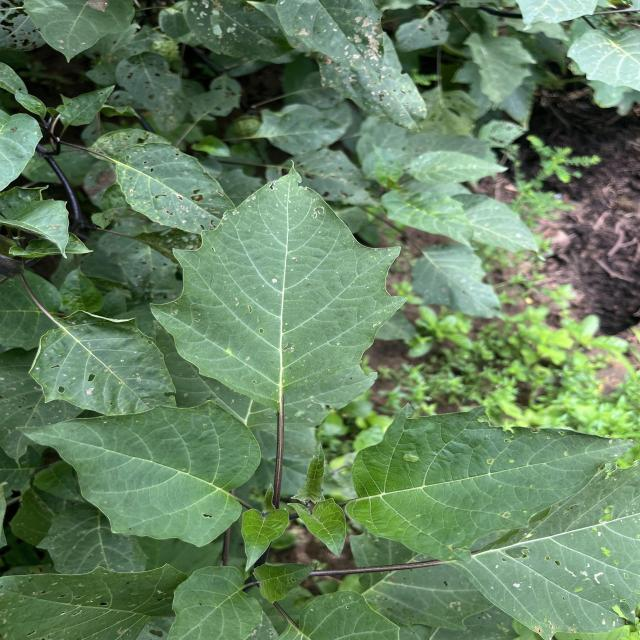Datura metal linn: (144, 156, 412, 416), (344, 400, 640, 566), (13, 396, 266, 550), (284, 496, 348, 560), (238, 504, 292, 576)
